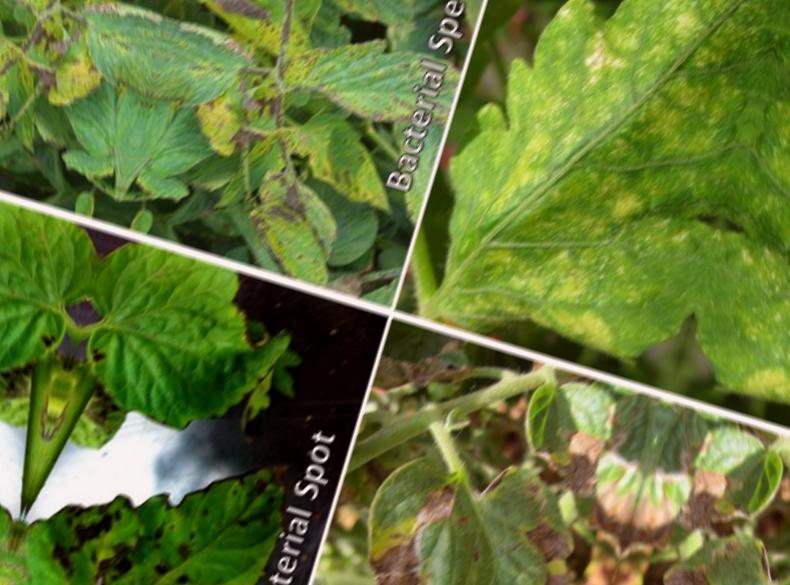Tomato Early blight leaf: (311, 412, 642, 585)
Tomato leaf bacterial spot: (56, 233, 343, 475), (1, 395, 319, 585), (260, 18, 457, 150), (245, 95, 429, 222), (141, 11, 274, 152), (115, 71, 231, 232), (235, 160, 370, 283), (185, 0, 300, 6)
